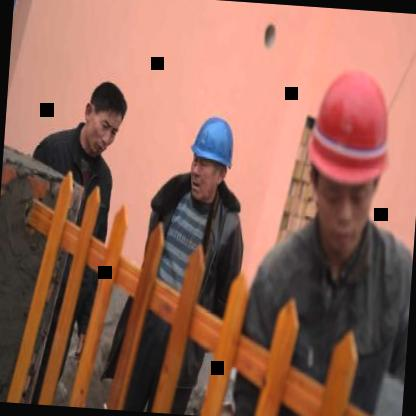head: (76, 75, 136, 159)
helmet: (294, 56, 400, 267), (184, 110, 239, 206)
